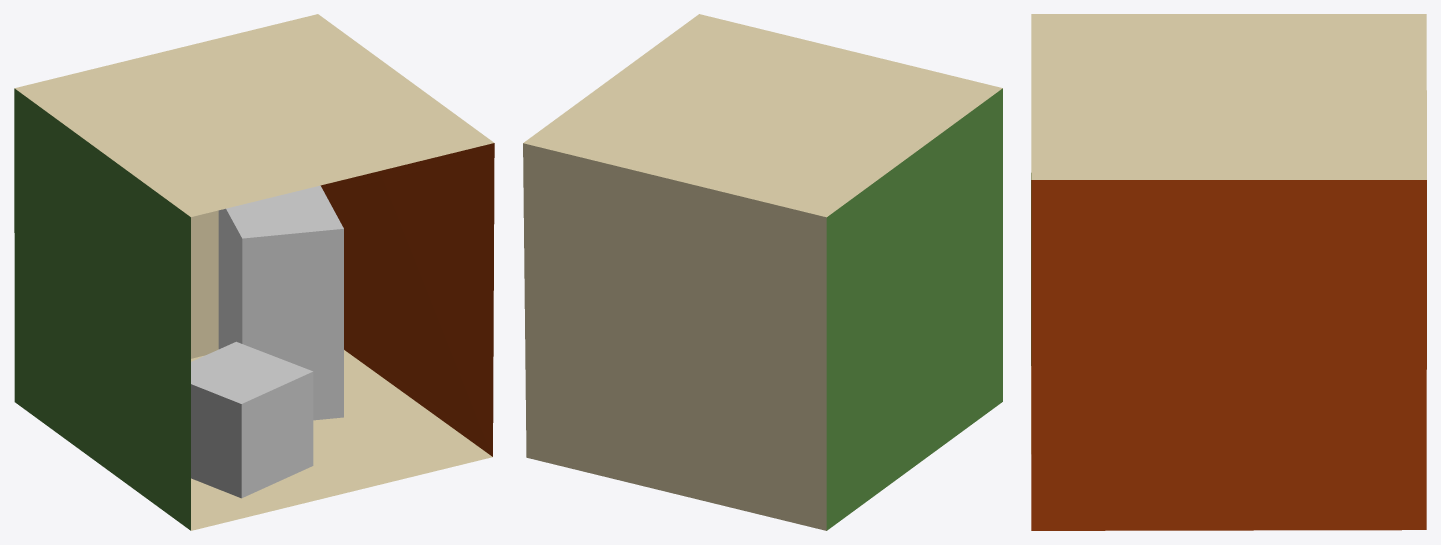
File: cornellbox_metal_plane_light.glb
The picture shows the model from 3 angles, left to right: view 1: azimuth 30°, elevation 25°; view 2: azimuth 150°, elevation 25°; view 3: azimuth 270°, elevation 25°; orthographic projection. The views are drawn at different scales.
Parts seen in each view (by area): view 1: CornellBox_Metal; view 2: CornellBox_Metal; view 3: CornellBox_Metal.
Boxes of the visible parts, x1,y1,x2,y2 form: CornellBox_Metal: [14, 14, 494, 530]; CornellBox_Metal: [523, 14, 1002, 530]; CornellBox_Metal: [1031, 14, 1426, 530].
Bounding box in the file's own units: 0.7808 × 0.7709 × 0.7855.
